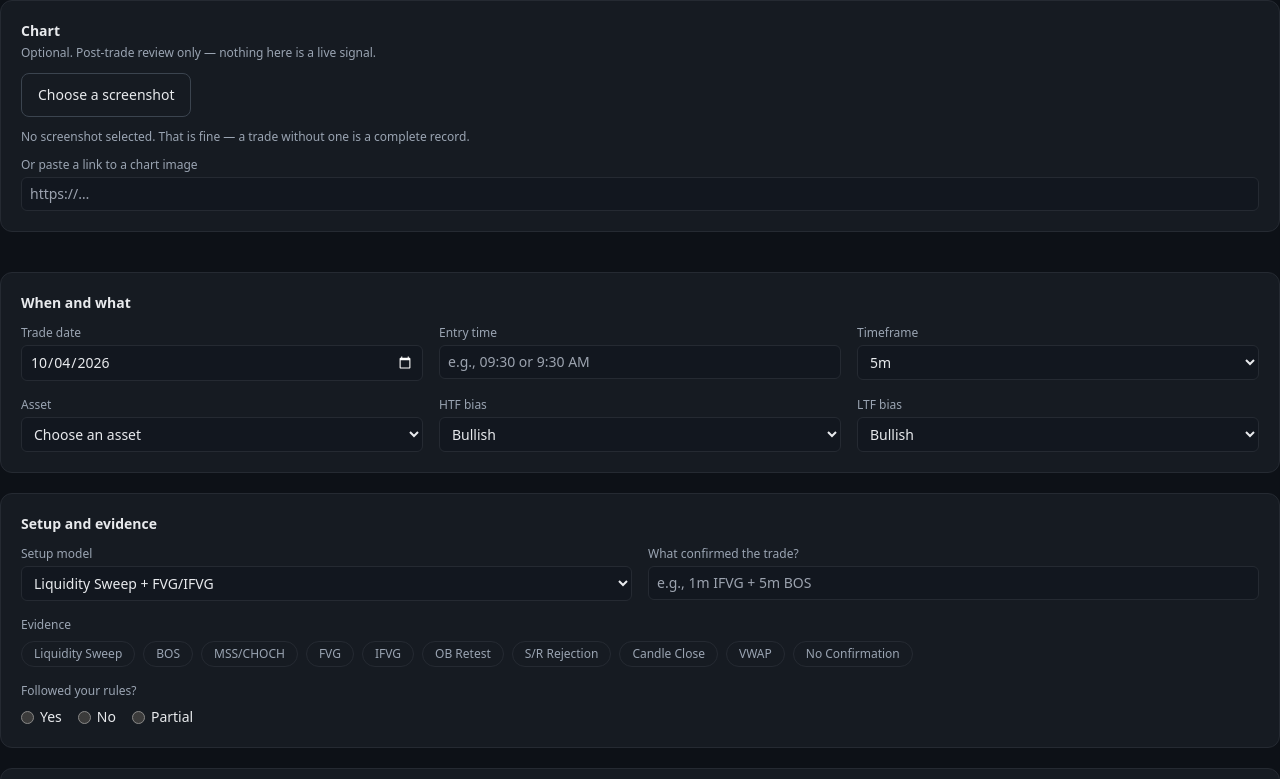
Test case: NewTradeForm › reveals the custom asset field only when 'Other / Custom' is picked
This screenshot has width=1280, height=779.
Check: the field labelled "Custom asset" is not shown
Select "Other / Custom" in the dropdown labelled "Asset" at (222, 434), box [21, 417, 423, 452]
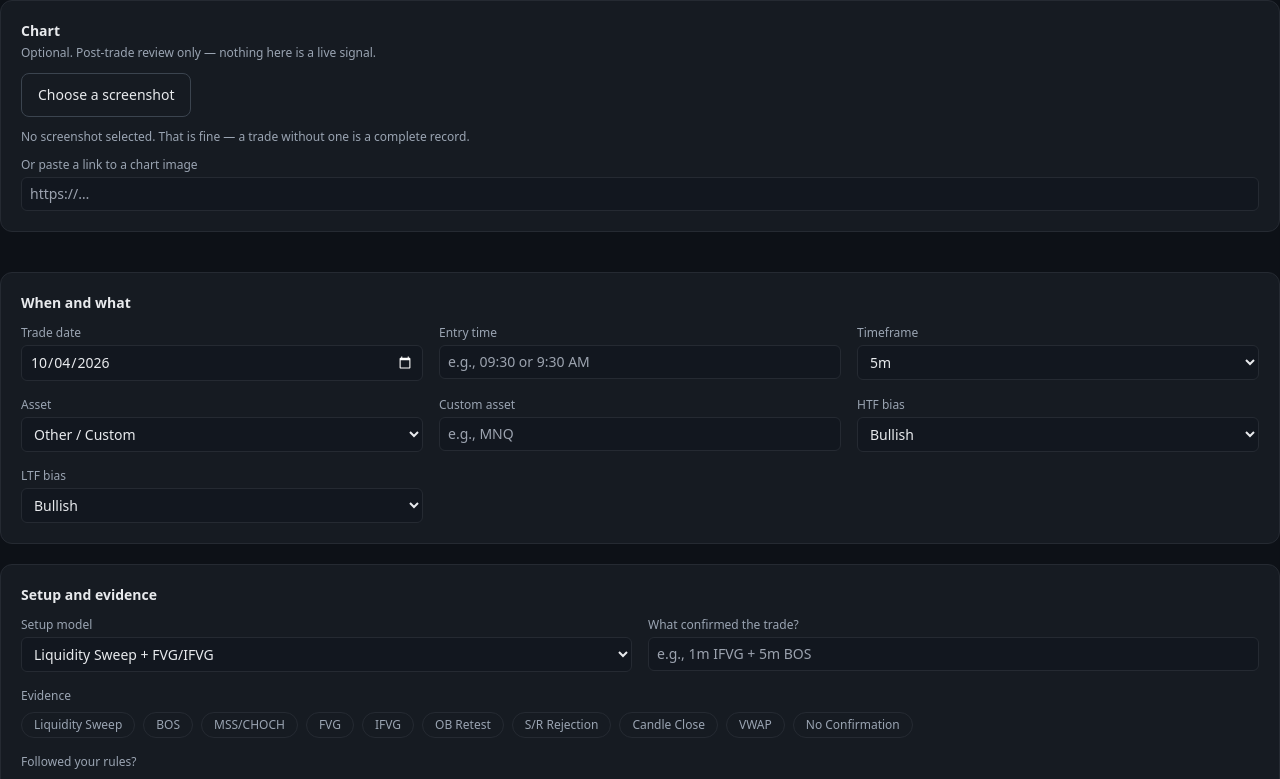
Check: the field labelled "Custom asset" is shown, box [439, 417, 841, 451]
